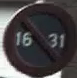No waiting: (5, 1, 67, 71)
